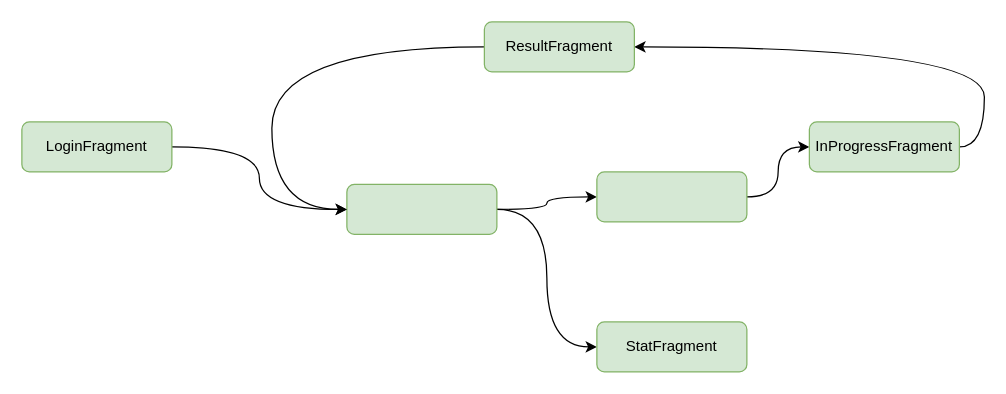
The diagram is 1006 pixels wide and 394 high, and some of its shapes have lost their labels. The shapes that lost their labels are listed below. From the top down, each one's box as (x1, y1, x2, y2) in pixels, then its label:
(346, 183, 497, 234): MySpaceFragment
(596, 171, 747, 222): LoungeFragment
